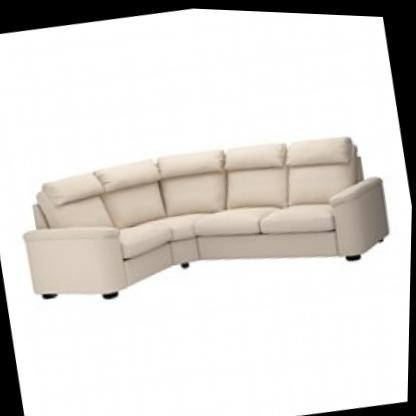Sofa: (0, 100, 412, 353)
